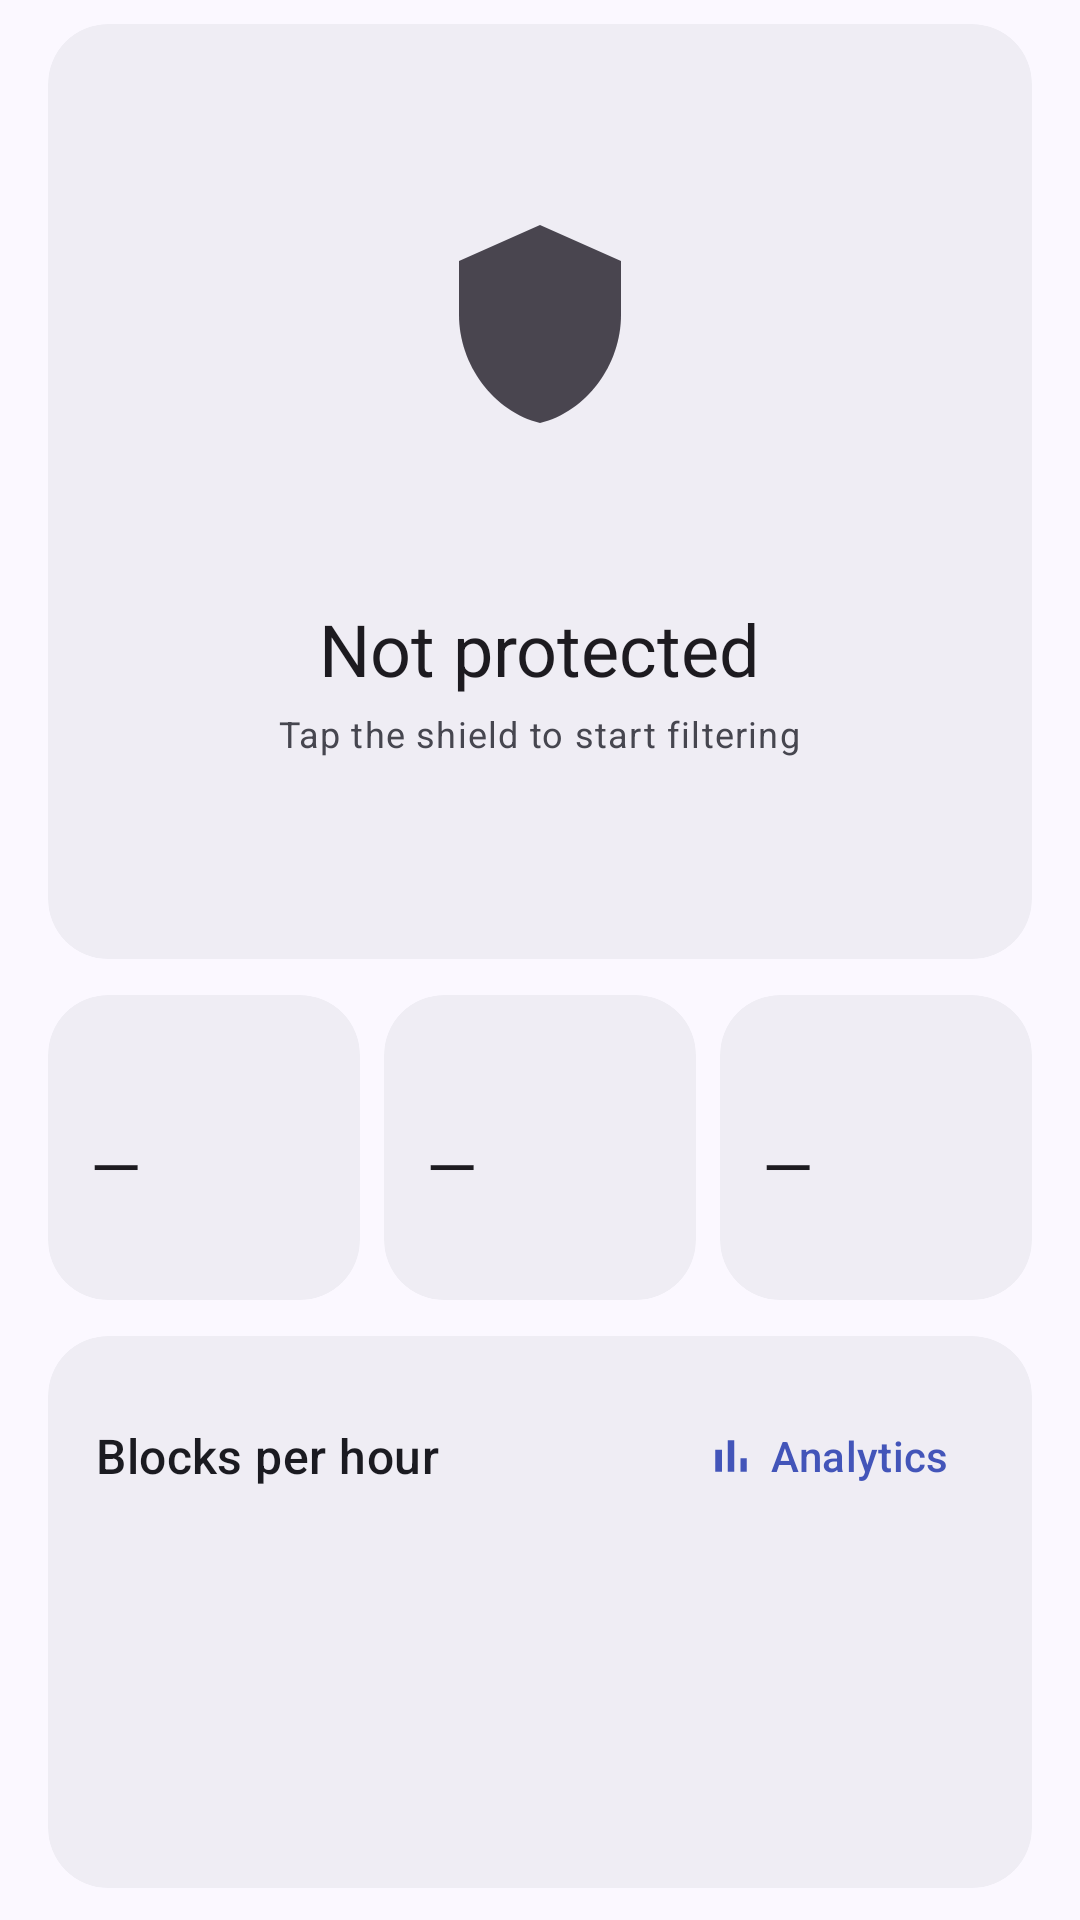

Icon bounding boxes for this 1080w x 1920h phone screenshot, format (x1,y1,x2,y2):
shield: (459,225,621,423)
